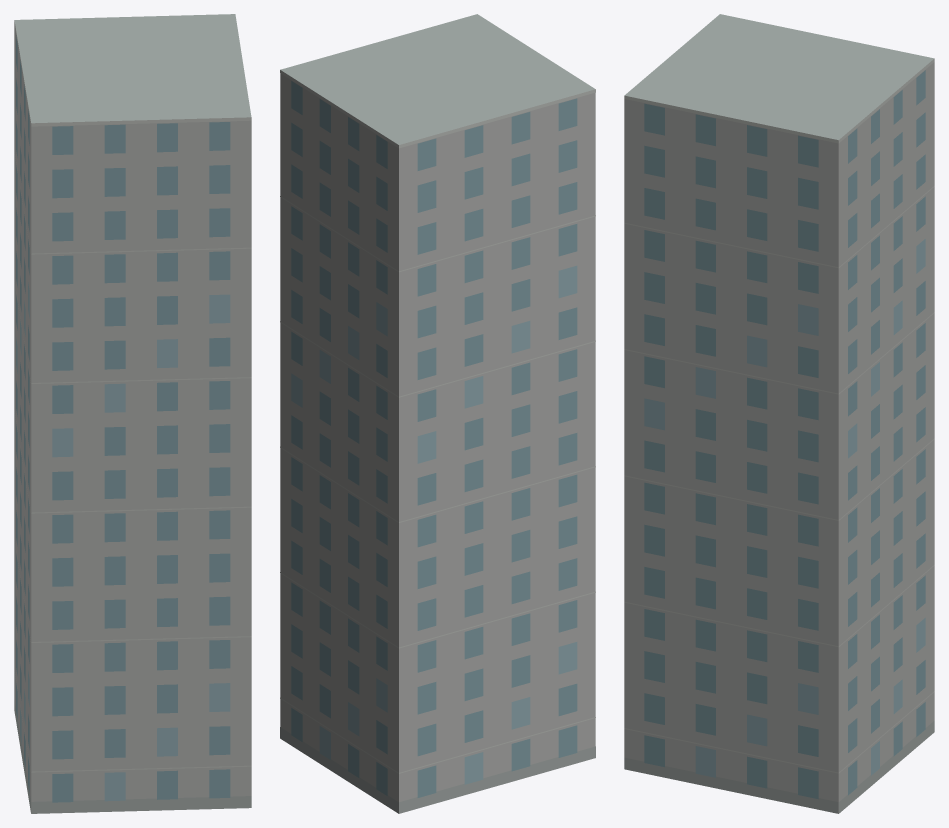
Rendered from survey-upis-32883535.glb.
3 renders of one model, left to right at view 1: azimuth 30°, elevation 25°; view 2: azimuth 150°, elevation 25°; view 3: azimuth 270°, elevation 25°, orthographic. The views are drawn at different scales.
Visible parts, largest first — view 1: survey-upis-32883535.tmp; view 2: survey-upis-32883535.tmp; view 3: survey-upis-32883535.tmp.
Part boxes in pixels (x1,y1,x2,y2): survey-upis-32883535.tmp: [14, 14, 251, 813]; survey-upis-32883535.tmp: [280, 14, 595, 813]; survey-upis-32883535.tmp: [624, 14, 934, 813].
Size of the model in its own units: 19.83 by 49.3 by 20.6.
